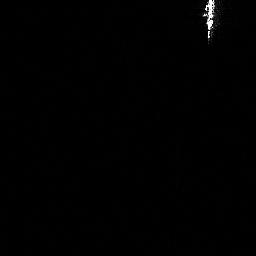ship: (200, 1, 219, 39)
